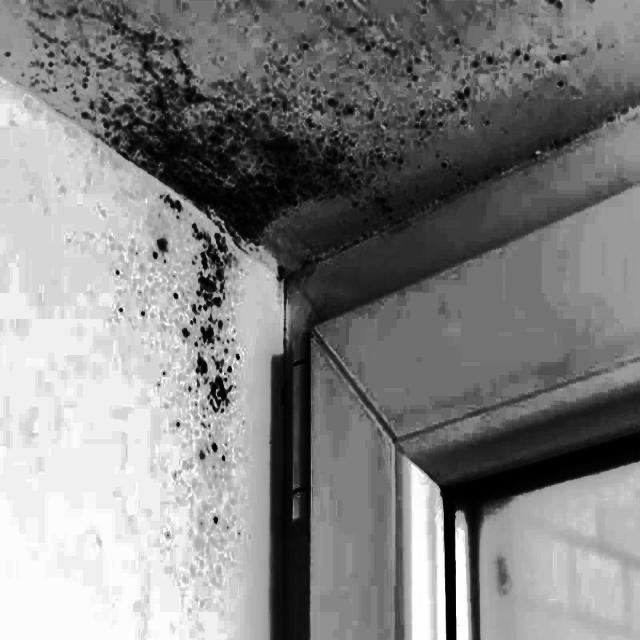stain marks: (0, 0, 635, 287), (106, 297, 261, 640)
